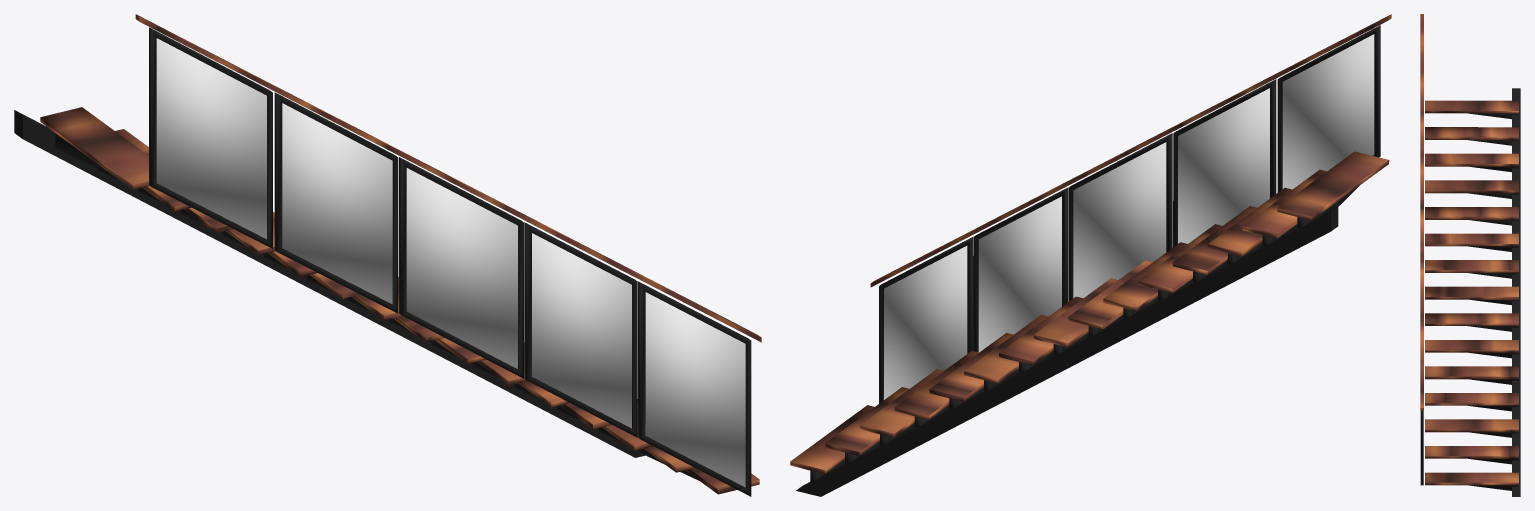
File: Stair3.fbx
3 renders of one model, left to right at view 1: azimuth 30°, elevation 25°; view 2: azimuth 150°, elevation 25°; view 3: azimuth 270°, elevation 25°, orthographic. The views are drawn at different scales.
Visible parts, largest first — view 1: Stairs 42-27_3.001, Stairs 42-27.001, 物件_1; view 2: Stairs 42-27_3.001, 物件_1, Stairs 42-27.001; view 3: 物件_1, Stairs 42-27.001.
Boxes of the visible parts, box(x1,y1,x2,y2) form: Stairs 42-27_3.001: box(156, 38, 745, 487); Stairs 42-27.001: box(14, 27, 751, 496); 物件_1: box(40, 14, 761, 494); Stairs 42-27_3.001: box(884, 34, 1374, 399); 物件_1: box(790, 14, 1391, 473); Stairs 42-27.001: box(796, 25, 1380, 496); 物件_1: box(1420, 14, 1518, 485); Stairs 42-27.001: box(1420, 88, 1520, 496).
Size of the model in its own units: 405 by 387 by 107.
